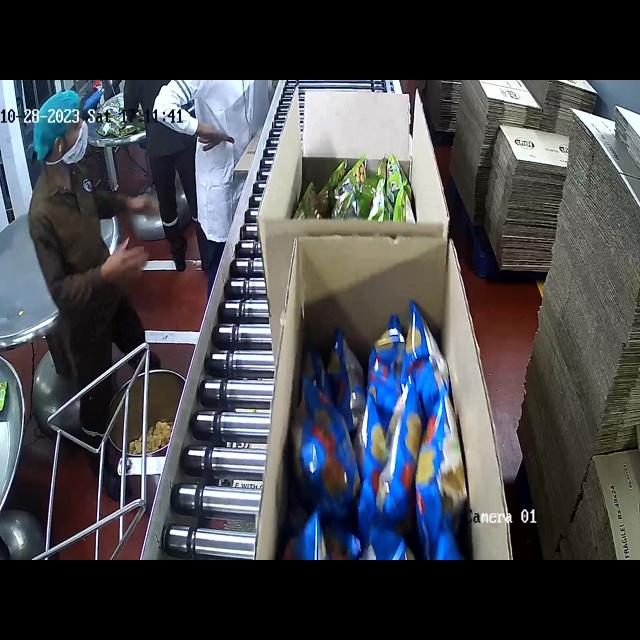paprika: (305, 313, 482, 559)
yogurt: (295, 157, 418, 228)
